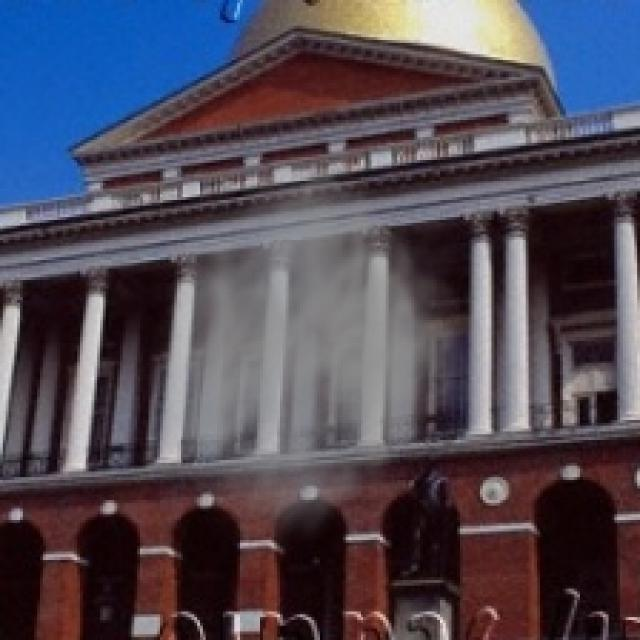smoke: (149, 149, 497, 554)
